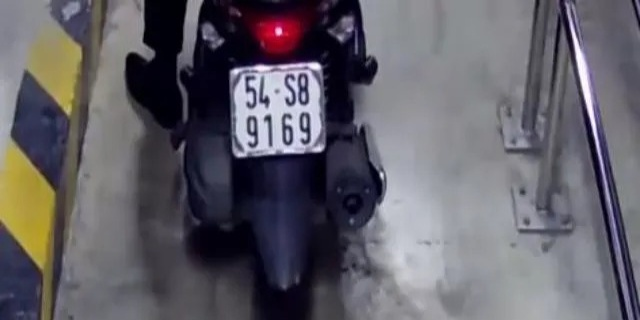bien_so: (228, 66, 329, 157)
